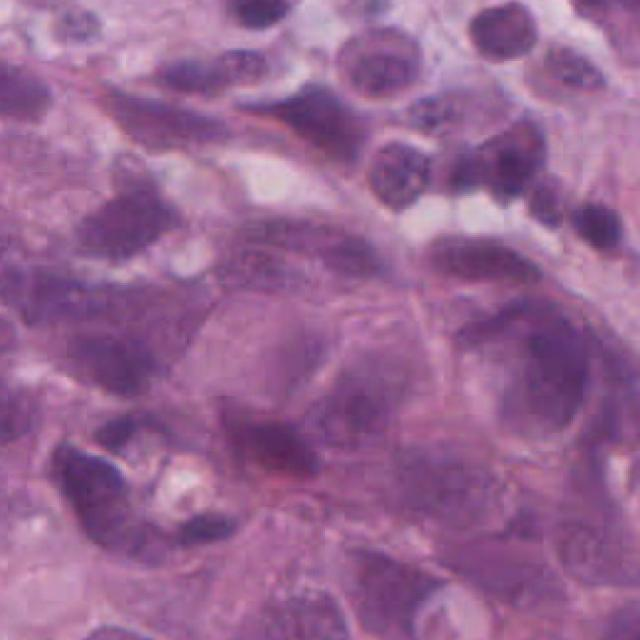lymphocyte: (504, 114, 542, 150), (496, 104, 508, 114)
tumor: (457, 296, 585, 427), (47, 435, 156, 559), (374, 431, 496, 525), (327, 305, 437, 403), (8, 268, 181, 329), (538, 474, 630, 583), (260, 78, 370, 168), (69, 166, 173, 259), (343, 538, 437, 640), (209, 205, 317, 290), (213, 387, 307, 475), (457, 107, 542, 196), (106, 91, 230, 152), (583, 337, 638, 472), (67, 324, 171, 394), (419, 229, 532, 287), (303, 383, 392, 448), (305, 220, 392, 283), (362, 139, 423, 203), (160, 505, 232, 553), (154, 54, 228, 91)
unlabeled: (341, 33, 417, 94), (89, 407, 163, 462), (534, 41, 599, 96), (402, 87, 467, 139), (217, 46, 289, 80), (522, 174, 565, 229), (41, 9, 93, 46)
